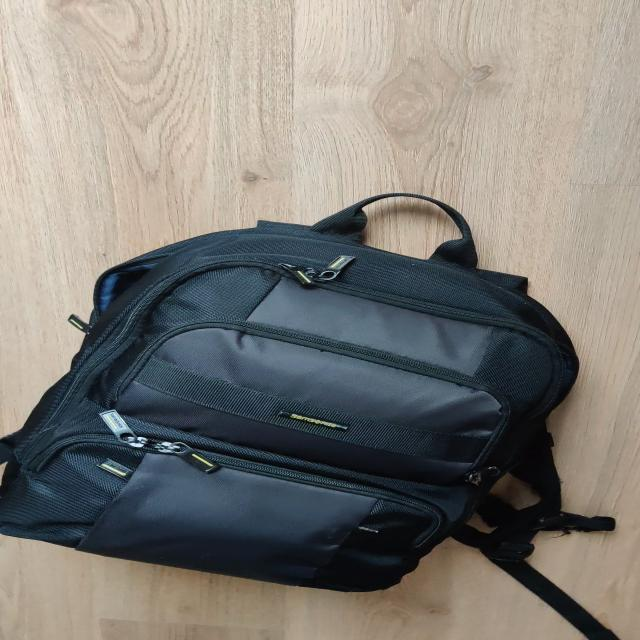backpack: (0, 186, 603, 600)
